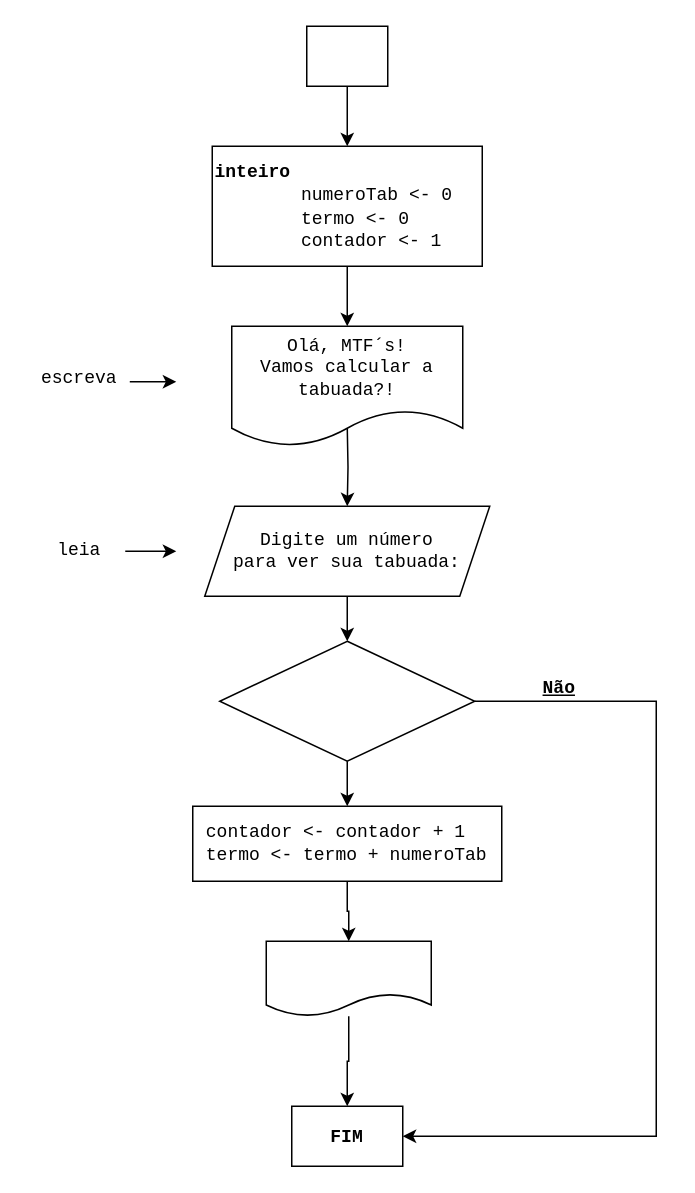
The diagram is 695 pixels wide and 1193 high, and some of its shapes have lost their labels. The box of each missing label's shape, as (x1, y1, x2, y2) in pixels:
(contador <= 10)?: (218, 640, 475, 761)
INÍCIO: (305, 25, 388, 86)
termo: (265, 940, 431, 1016)
